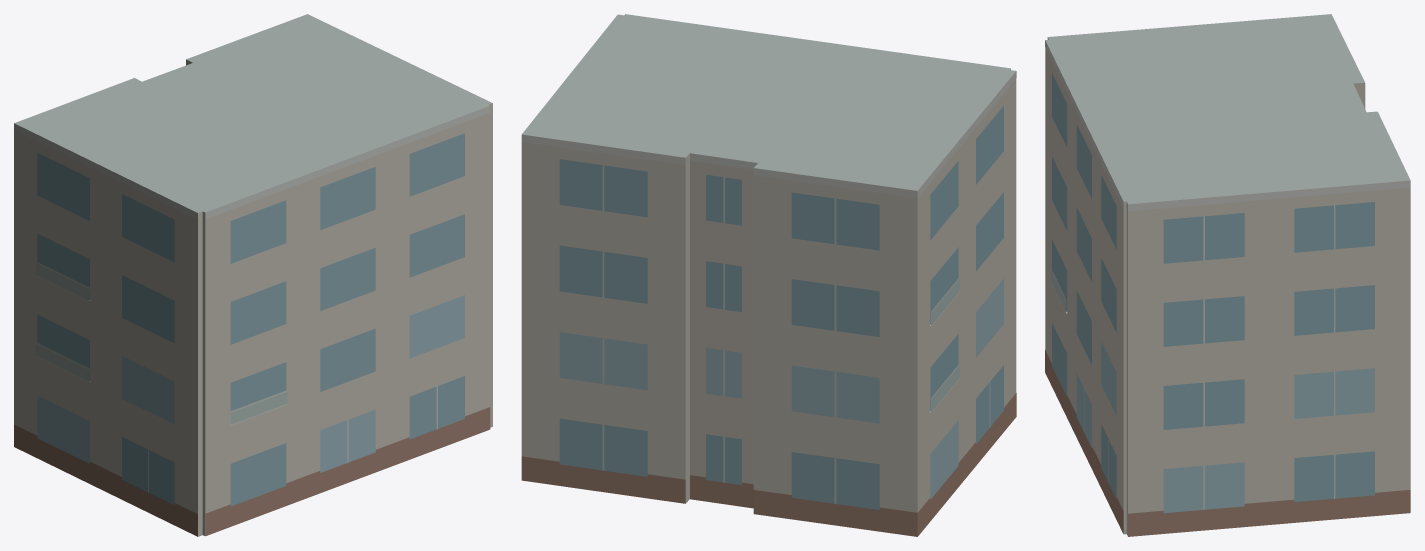
Rendered from survey-upis-32741700.glb.
The picture shows the model from 3 angles, left to right: view 1: azimuth 30°, elevation 25°; view 2: azimuth 150°, elevation 25°; view 3: azimuth 270°, elevation 25°; orthographic projection. The views are drawn at different scales.
Visible parts, largest first — view 1: survey-upis-32741700.tmp; view 2: survey-upis-32741700.tmp; view 3: survey-upis-32741700.tmp.
Boxes of the visible parts, x1,y1,x2,y2 form: survey-upis-32741700.tmp: (14,14,492,536); survey-upis-32741700.tmp: (521,14,1016,536); survey-upis-32741700.tmp: (1045,14,1410,536).
Bounding box in the file's own units: 14.12 × 11.5 × 11.46.
